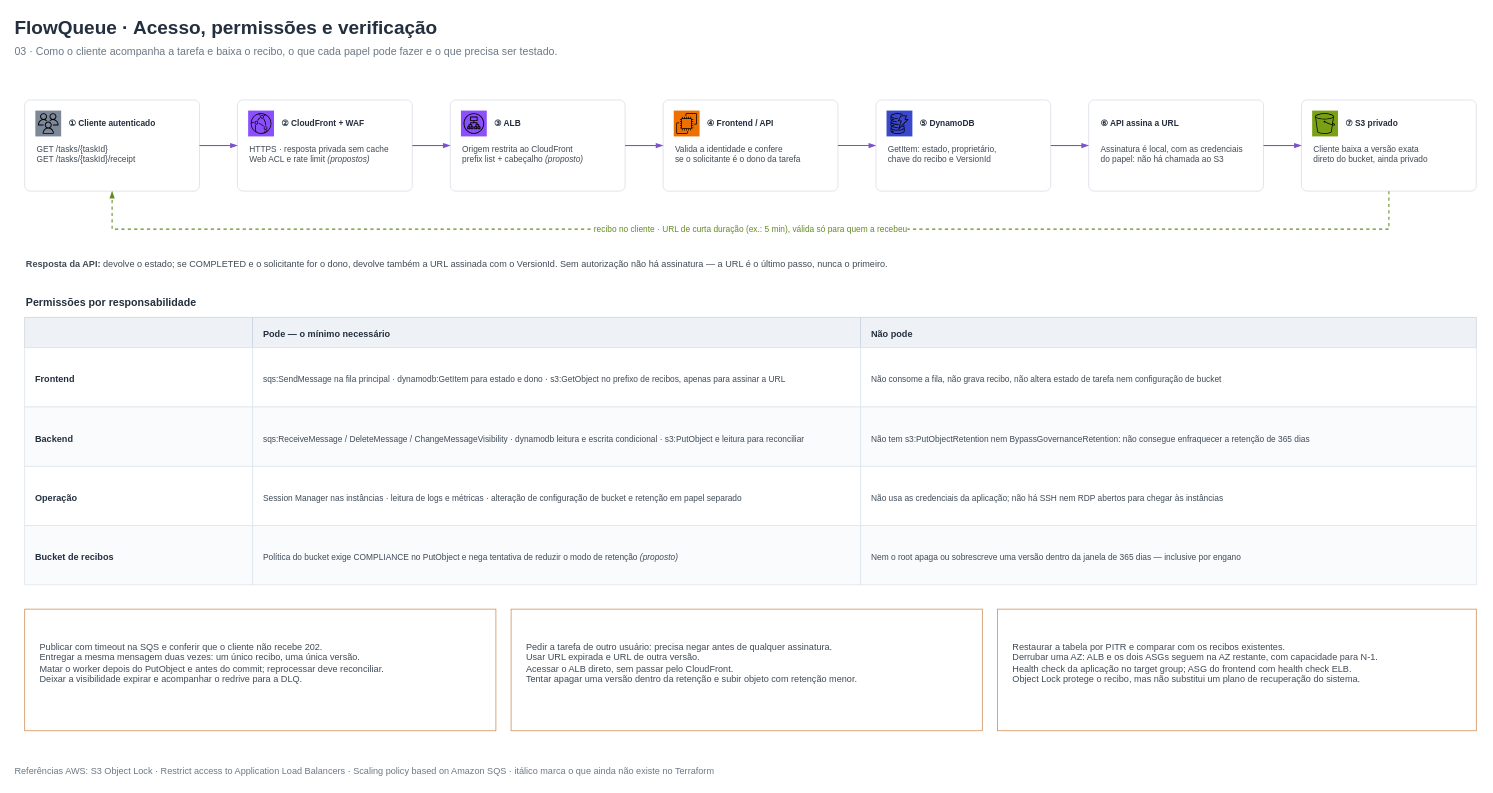
Some shapes in this 1493 by 793 pixel diagram are drawn without their labels. The box of each missing label's shape, as (x1, y1, x2, y2) in pixels:
Papel: (24, 317, 253, 348)
Recuperação e disponibilidade: (997, 608, 1476, 731)
Testes de falha: (24, 608, 496, 731)
Testes de segurança: (510, 608, 982, 731)
